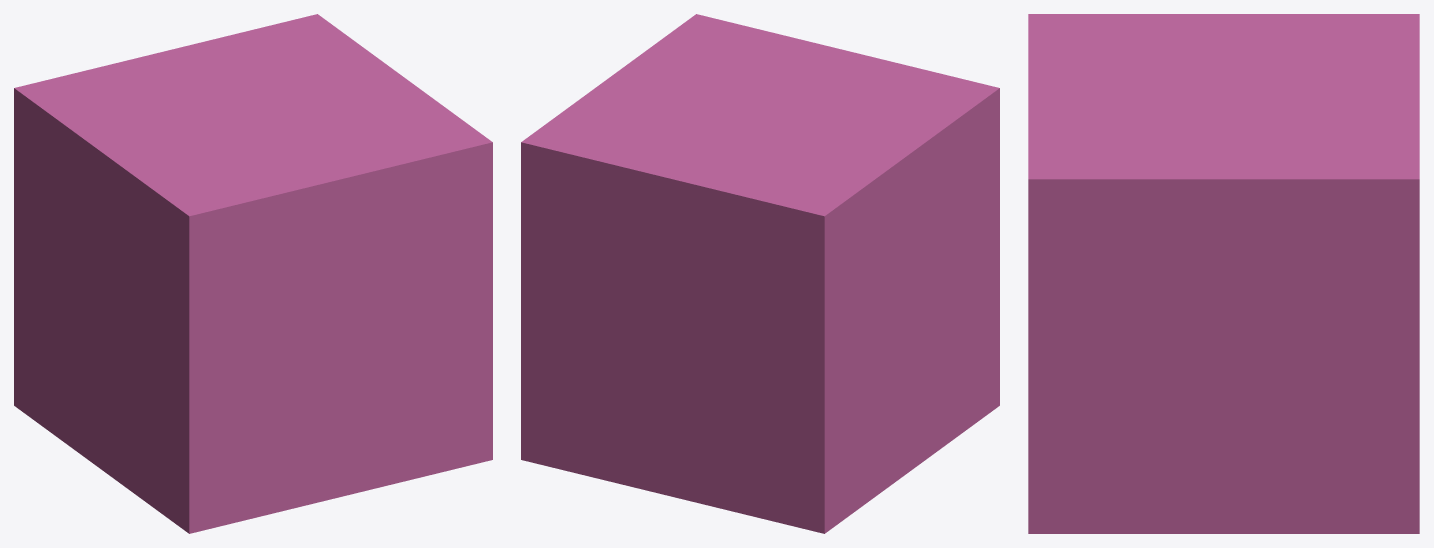
The picture shows the model from 3 angles, left to right: view 1: azimuth 30°, elevation 25°; view 2: azimuth 150°, elevation 25°; view 3: azimuth 270°, elevation 25°; orthographic projection. The views are drawn at different scales.
Parts seen in each view (by area): view 1: part_body_basic; view 2: part_body_basic; view 3: part_body_basic.
Boxes of the visible parts, x1,y1,x2,y2 form: part_body_basic: [14, 14, 492, 533]; part_body_basic: [521, 14, 999, 533]; part_body_basic: [1028, 14, 1419, 533].
Bounding box in the file's own units: 1 × 1 × 1.
